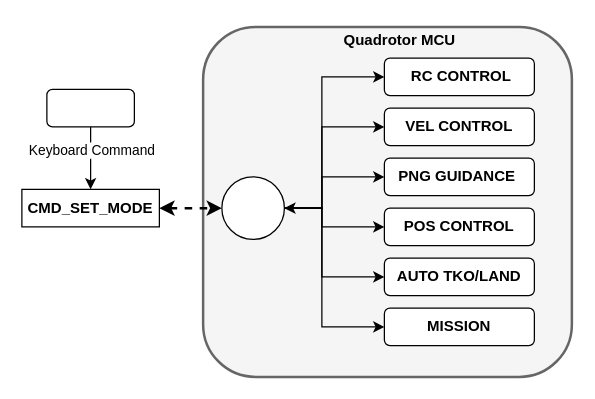
Image size: 595x399. Some labels were removed from this diagram. Here are the shapes that lost their labels. From the top down, the centre of each, then its label:
[90,107]: GCS
[252,207]: IDLE
